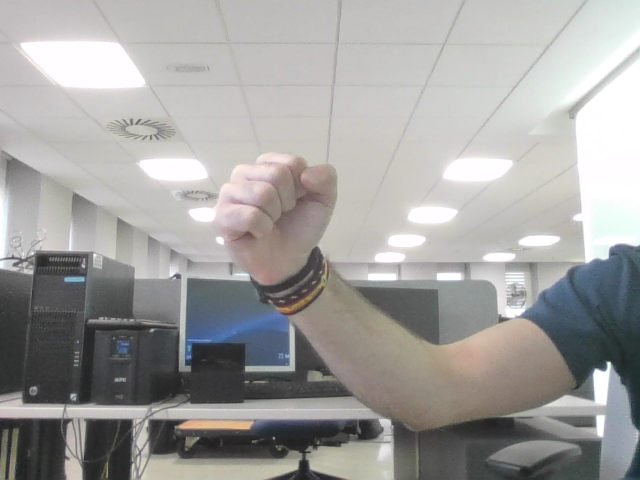Puño: (226, 162, 324, 231)
